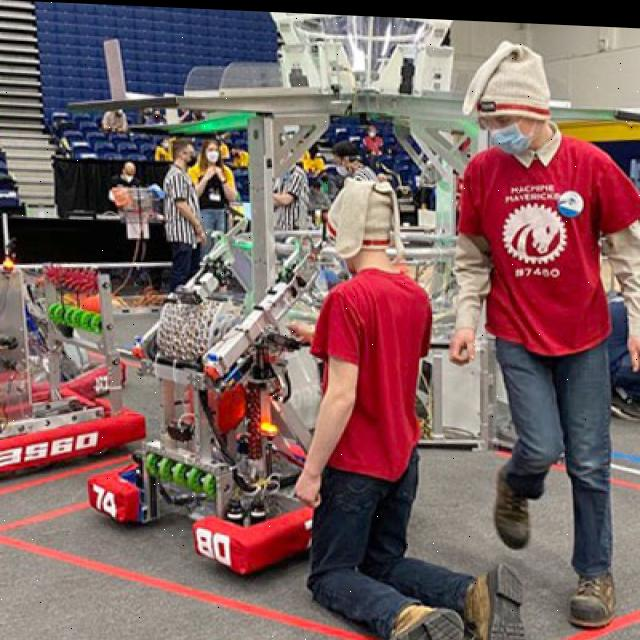robot: (84, 208, 370, 570), (1, 258, 146, 479)
